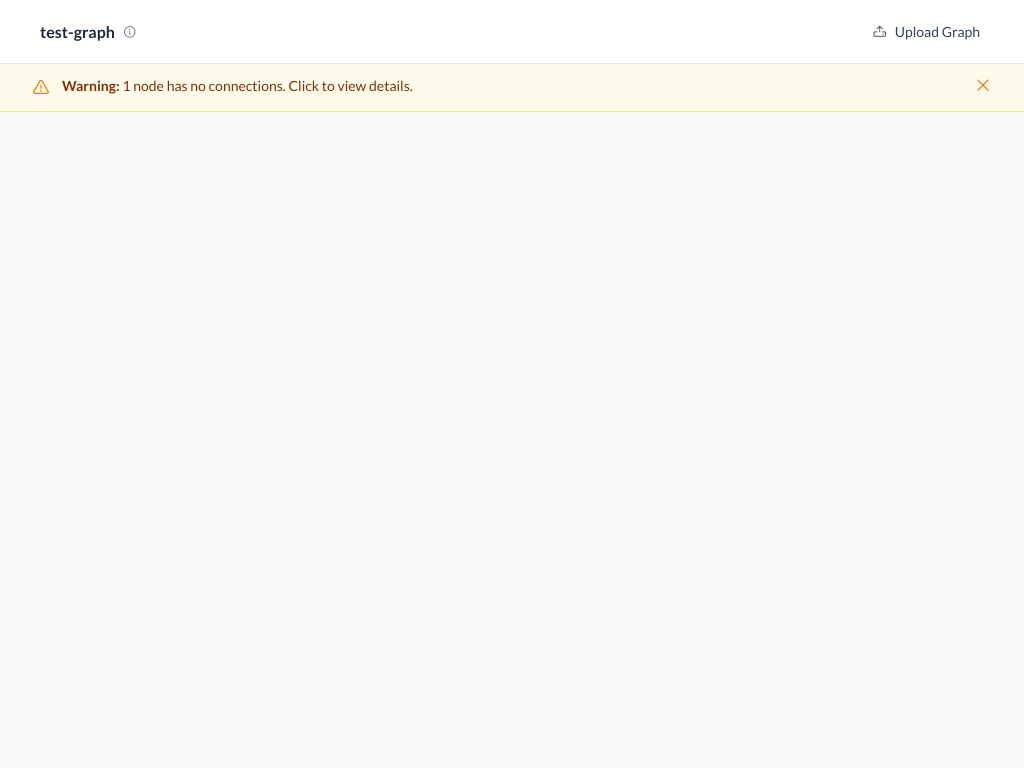
Test: Header › schema modal trigger › opens schema modal when graph name clicked
Click the button "test-graph".
click(88, 32)  # box [32,16,145,48]
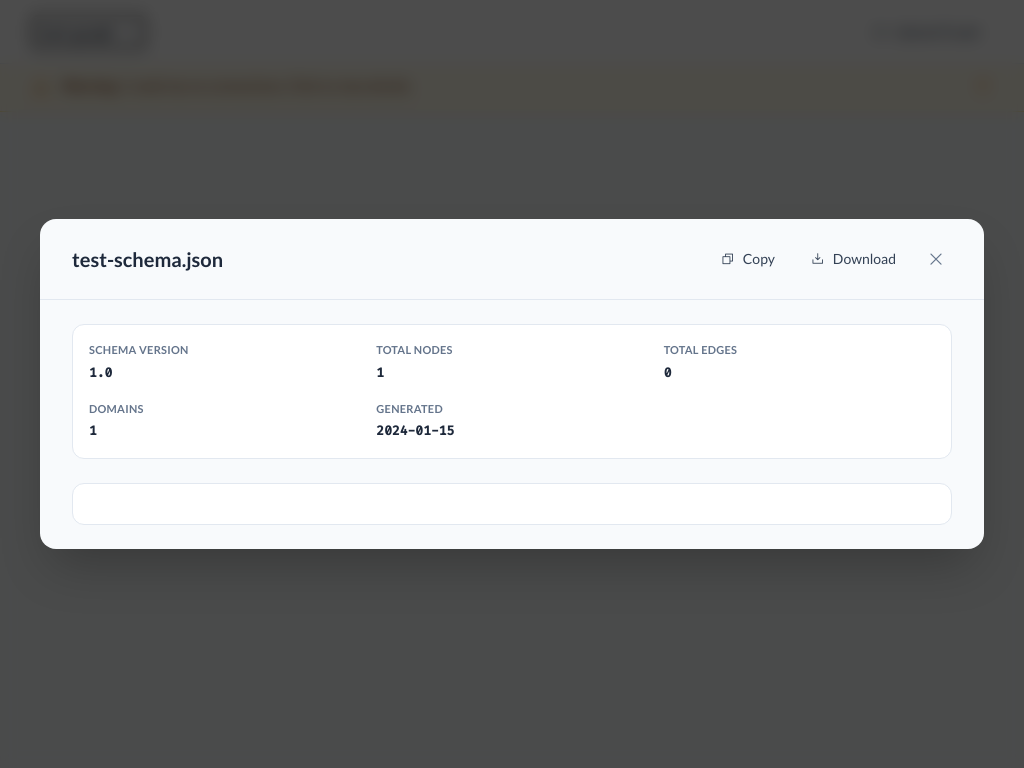
Result: the dialog is shown
